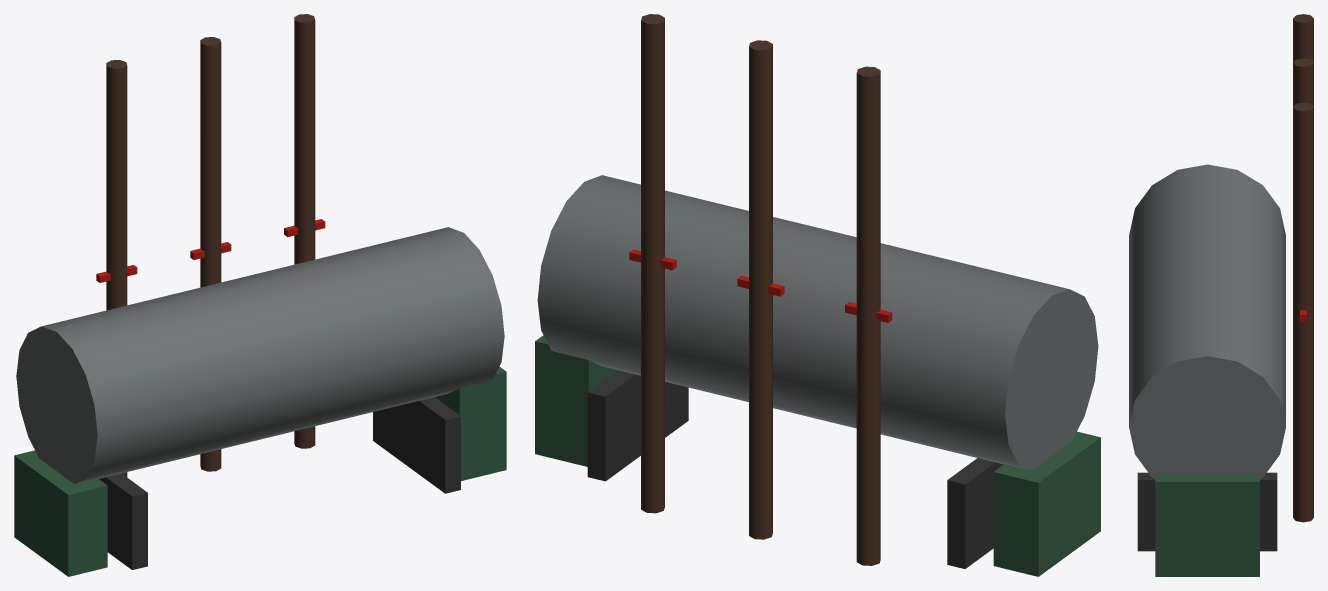
File: prop_heat_unit.glb
3 renders of one model, left to right at view 1: azimuth 30°, elevation 25°; view 2: azimuth 150°, elevation 25°; view 3: azimuth 270°, elevation 25°, orthographic. The views are drawn at different scales.
Parts seen in each view (by area): view 1: prop_heat_unit; view 2: prop_heat_unit; view 3: prop_heat_unit.
Boxes of the visible parts, bbox=[...] form: prop_heat_unit: bbox=[14, 14, 506, 576]; prop_heat_unit: bbox=[535, 14, 1100, 576]; prop_heat_unit: bbox=[1129, 14, 1313, 576].
Size of what is drawn, in the model's own units: 2.8 by 2.6 by 1.06.
